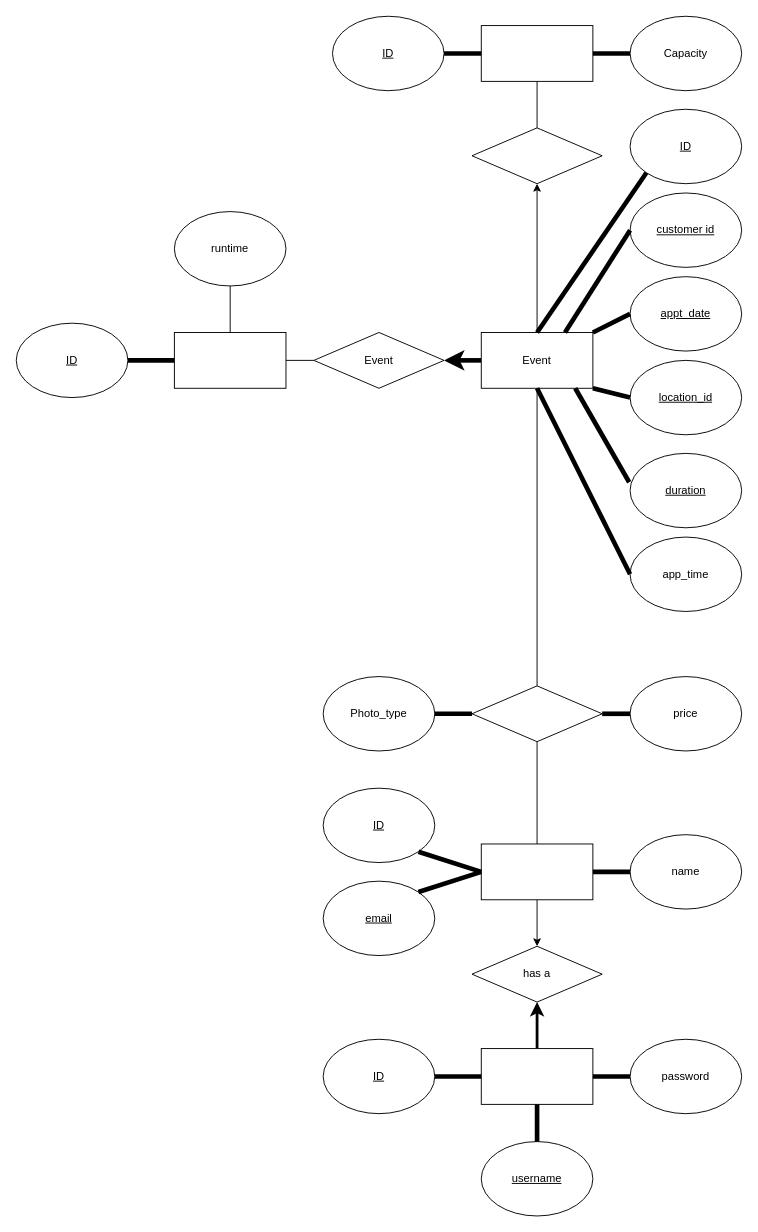
The diagram is 758 pixels wide and 1232 high, and some of its shapes have lost their labels. Here are the shapes that lost their labels. From the top down, the centre of each, then its label:
At point (536, 53): "Location".
At point (536, 155): "shoot_at".
At point (229, 360): "photo_shoot".
At point (536, 713): "purchased by".
At point (536, 871): "Customer".
At point (536, 1076): "Account".
